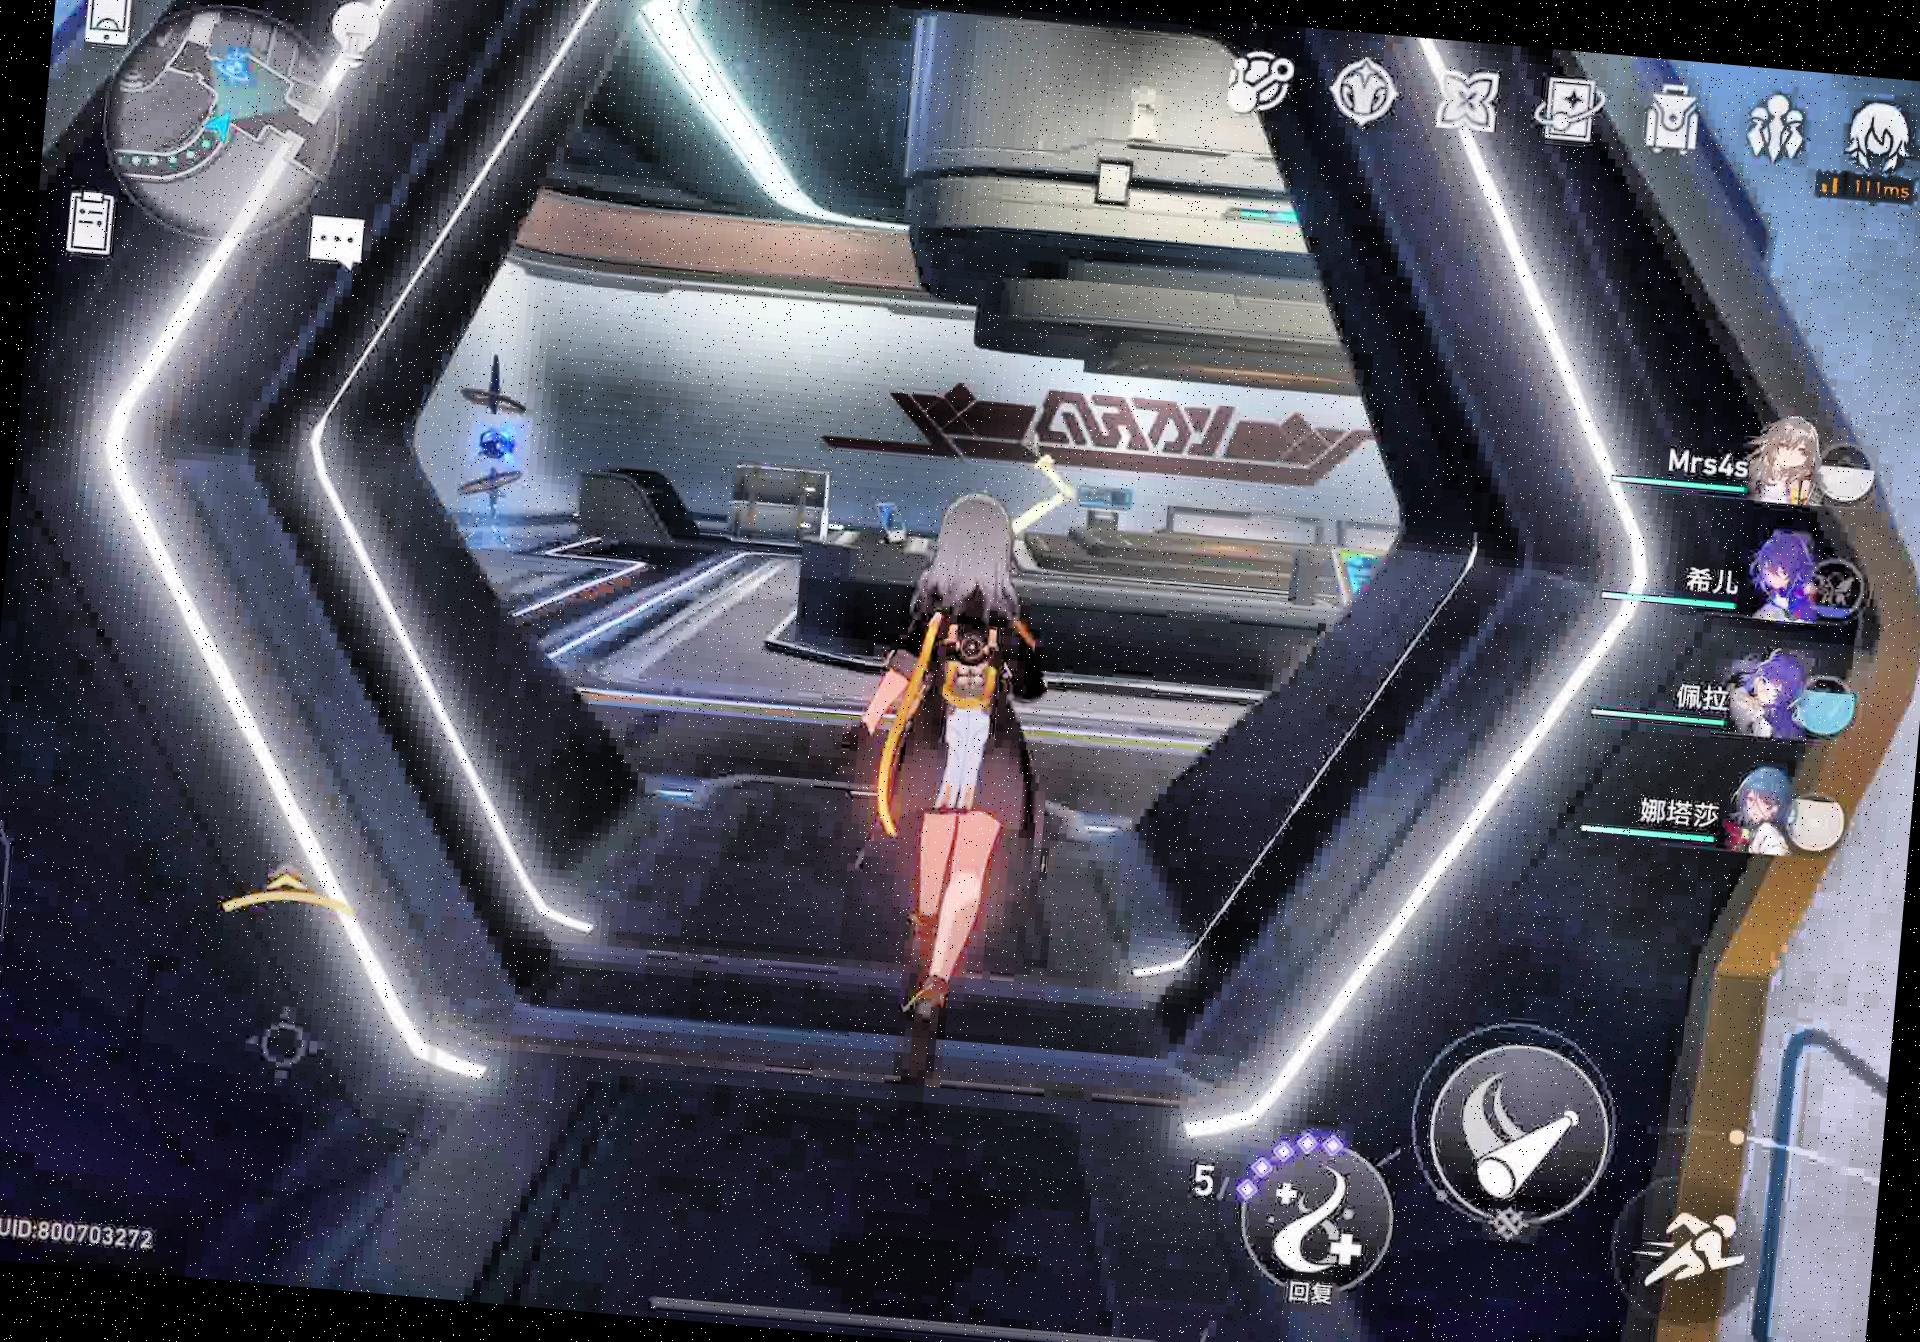Box: (713, 455, 843, 563)
Self: (820, 483, 1071, 1056)
